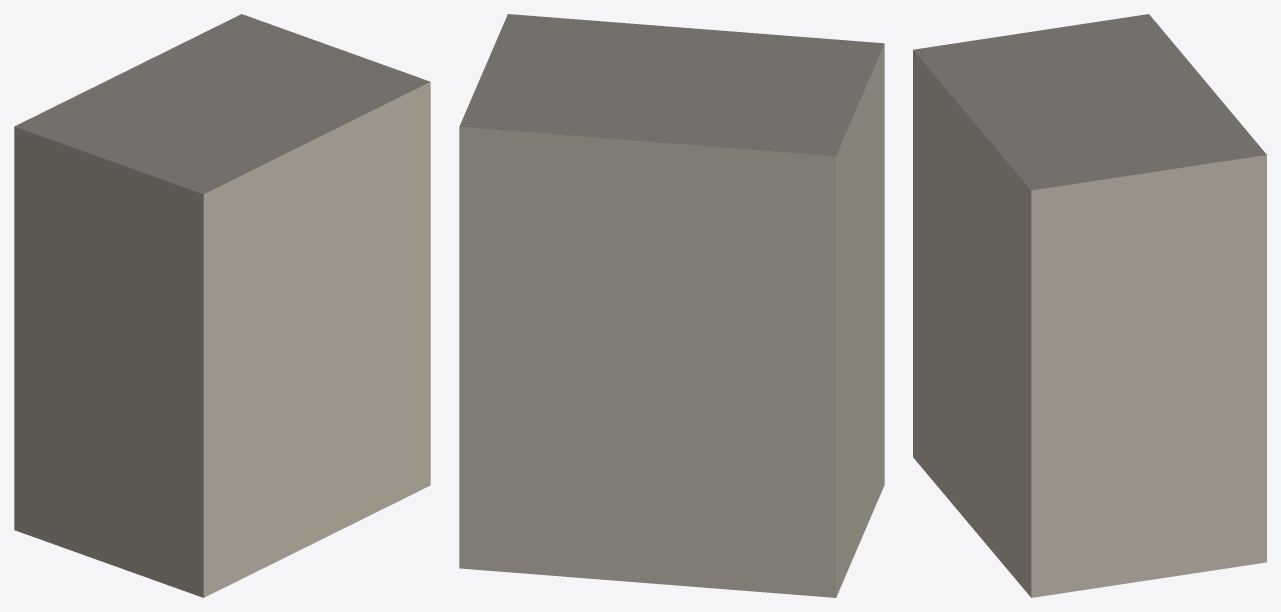
The picture shows the model from 3 angles, left to right: view 1: azimuth 30°, elevation 25°; view 2: azimuth 150°, elevation 25°; view 3: azimuth 270°, elevation 25°; orthographic projection. The views are drawn at different scales.
Parts seen in each view (by area): view 1: HP-w1424106441; view 2: HP-w1424106441; view 3: HP-w1424106441.
Part boxes in pixels (bbox=[...]): HP-w1424106441: bbox=[14, 14, 430, 597]; HP-w1424106441: bbox=[459, 14, 884, 597]; HP-w1424106441: bbox=[913, 14, 1266, 597].
Bounding box in the file's own units: 13.93 × 15 × 11.81.
